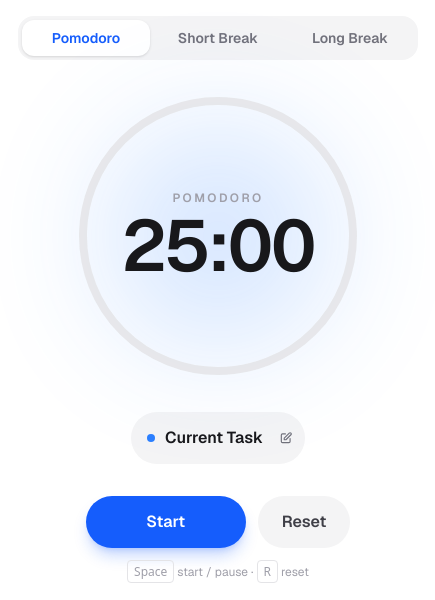
Test case: Timer component › task editing › Edit button opens task input with current task name
Click the button named "Edit": (286, 438) [271,423,301,453]
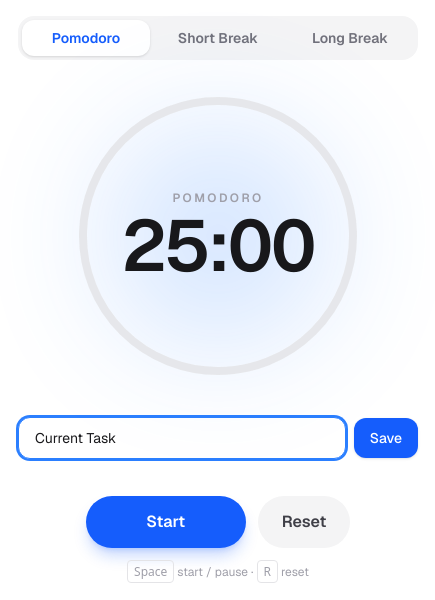
Result: the field with placeholder "What are you focusing on?" holds "Current Task" at [18,417,346,459]
